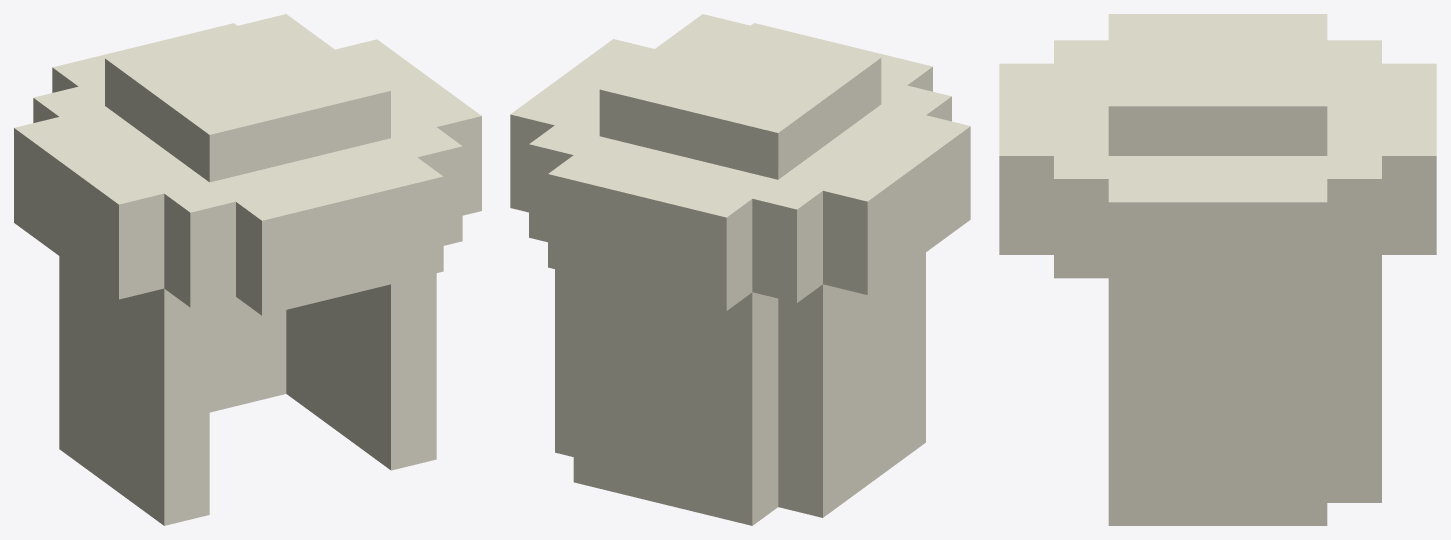
File: character-190-helm_lgt_1b_sh.obj
3 renders of one model, left to right at view 1: azimuth 30°, elevation 25°; view 2: azimuth 150°, elevation 25°; view 3: azimuth 270°, elevation 25°, orthographic. The views are drawn at different scales.
Visible parts, largest first — view 1: helm_lgt_1b_sh; view 2: helm_lgt_1b_sh; view 3: helm_lgt_1b_sh.
Part boxes in pixels (x1=…): helm_lgt_1b_sh: x1=14, y1=14, x2=481, y2=525; helm_lgt_1b_sh: x1=510, y1=14, x2=970, y2=525; helm_lgt_1b_sh: x1=999, y1=14, x2=1436, y2=525.
Size of the model in its own units: 0.8 by 0.8 by 0.8.
1 material, 1 textured.
